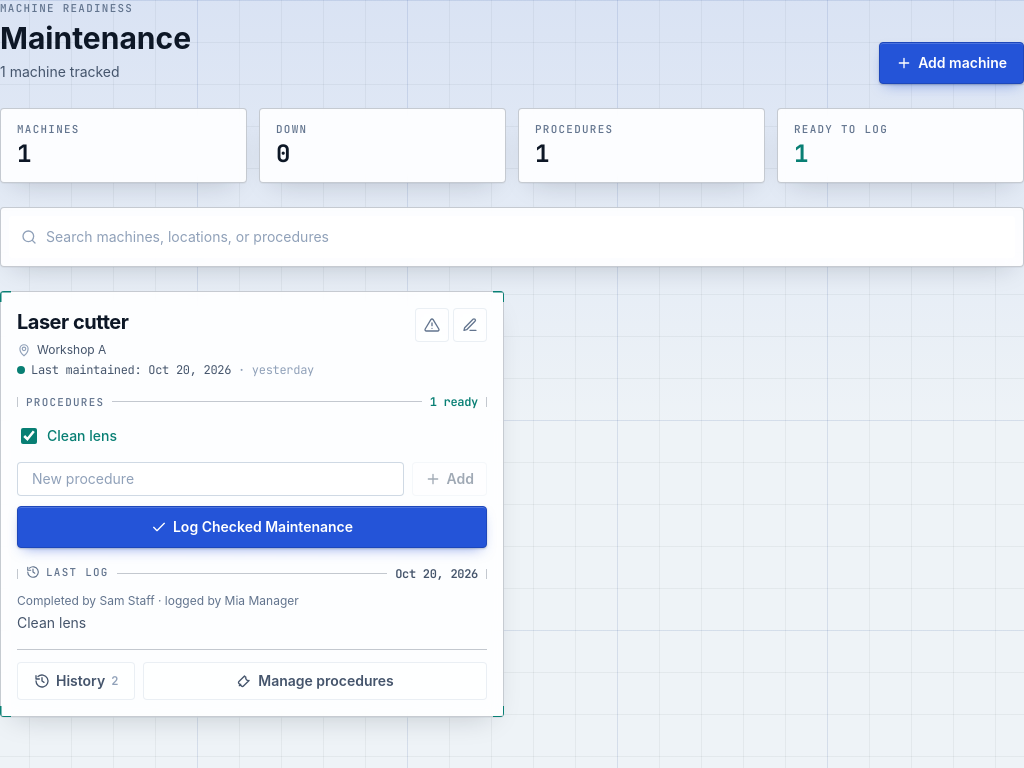
showing who did the maintenance › shows the full attribution in the history panel
This screenshot has width=1024, height=768.
What coordinates should you click on to do the following:
click the button "History 2"
I would click on:
 (76, 681)
Its box is [17,662,135,700].
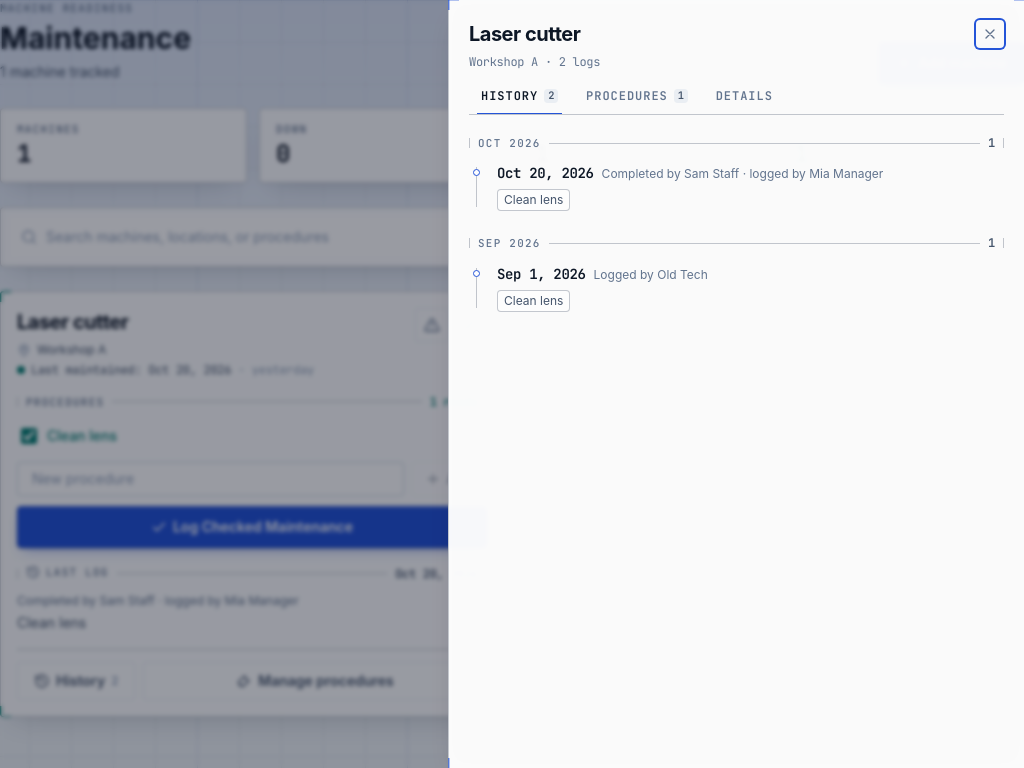
Expected: the text "Completed by Sam Staff · logged by Mia Manager" is shown, [602,166,883,182]
Expected: the text "Logged by Old Tech" is shown, [594,267,708,283]
